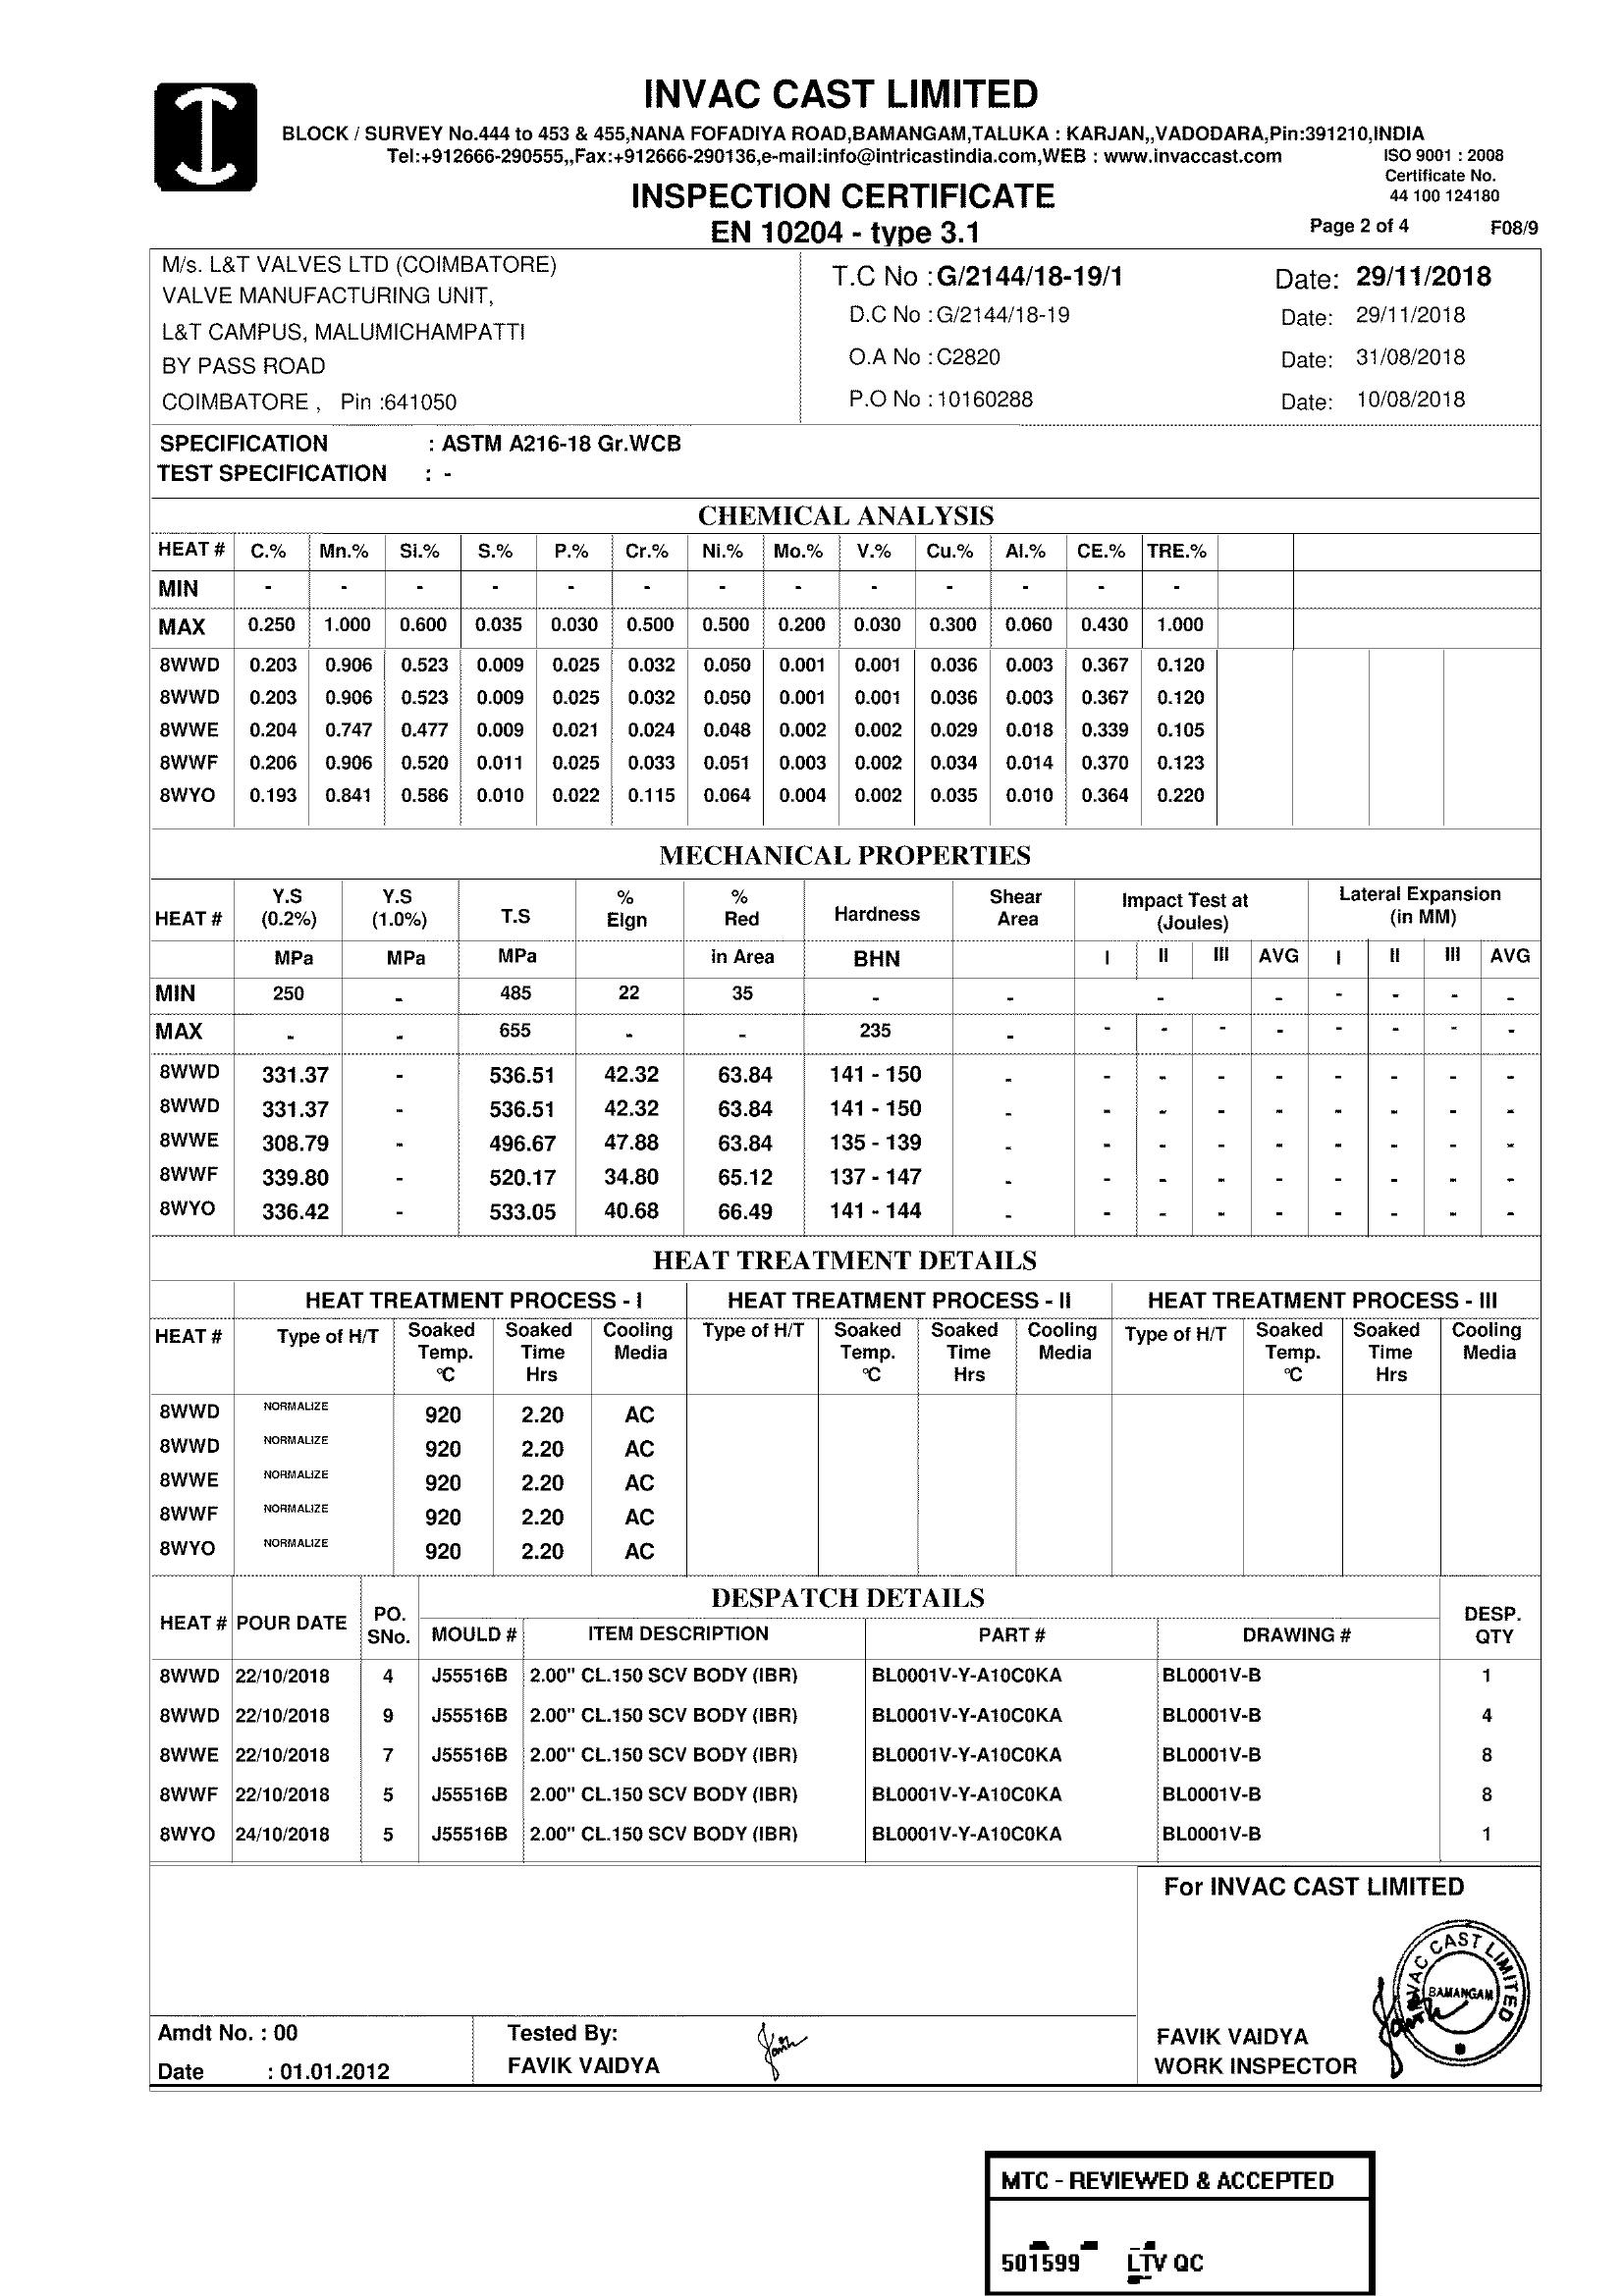cell: (645, 832, 1045, 874), (690, 500, 1003, 532), (1324, 885, 1505, 936), (1112, 890, 1263, 936), (358, 885, 439, 934), (819, 1062, 931, 1094), (694, 943, 792, 978), (977, 885, 1049, 932), (813, 1130, 934, 1157), (708, 1055, 783, 1092), (824, 1164, 927, 1190), (819, 1097, 929, 1122), (260, 890, 321, 934), (253, 1162, 330, 1195), (248, 1095, 334, 1125), (826, 1201, 938, 1223), (824, 902, 927, 927), (253, 1057, 328, 1090), (357, 946, 451, 972), (478, 1099, 573, 1125), (476, 1127, 559, 1157), (149, 902, 227, 934), (255, 1197, 332, 1229), (994, 651, 1059, 688), (833, 941, 908, 972), (153, 750, 223, 783), (1152, 776, 1210, 816), (480, 1064, 562, 1092), (595, 1201, 676, 1229), (843, 778, 910, 811), (843, 685, 913, 716), (1073, 743, 1136, 778), (715, 890, 768, 932), (156, 1058, 230, 1088), (323, 709, 378, 750), (601, 890, 655, 930), (706, 1097, 789, 1123), (710, 1199, 792, 1225), (464, 716, 529, 750), (464, 779, 532, 811), (588, 1064, 676, 1088), (472, 1164, 560, 1188), (155, 1092, 227, 1122), (771, 778, 829, 814), (156, 649, 227, 679), (153, 1127, 223, 1157), (464, 685, 543, 711), (481, 1199, 560, 1225), (996, 783, 1061, 814), (1073, 535, 1135, 569), (239, 716, 311, 744), (487, 943, 559, 971), (845, 1018, 917, 1046), (618, 537, 682, 569), (543, 783, 606, 814), (618, 783, 682, 814), (1075, 779, 1138, 811), (318, 681, 385, 711), (1071, 686, 1138, 716), (241, 781, 300, 814), (706, 1132, 792, 1155), (618, 751, 680, 783), (998, 714, 1063, 744), (696, 685, 754, 718), (160, 532, 228, 560), (615, 653, 683, 681), (917, 653, 985, 681), (595, 1095, 664, 1123), (595, 1166, 673, 1190), (464, 657, 536, 683), (314, 748, 378, 778), (994, 748, 1061, 776), (256, 948, 323, 976), (480, 1018, 555, 1043), (539, 751, 610, 778), (239, 611, 300, 641), (771, 651, 833, 681), (768, 686, 829, 716), (481, 895, 543, 925), (1154, 685, 1212, 716), (153, 979, 211, 1011), (1149, 751, 1214, 779), (155, 781, 220, 809), (922, 714, 977, 748), (155, 716, 228, 741), (153, 1162, 227, 1187), (388, 751, 457, 778), (253, 1134, 332, 1157), (694, 537, 754, 567), (618, 718, 678, 748), (920, 541, 984, 569), (696, 651, 759, 679), (395, 714, 451, 746), (239, 746, 302, 774), (462, 750, 525, 778), (766, 750, 829, 778), (492, 978, 548, 1009), (388, 653, 455, 679), (922, 785, 989, 811), (1075, 657, 1136, 685), (241, 683, 302, 711), (392, 781, 453, 809), (706, 1164, 782, 1187), (618, 613, 683, 639), (388, 616, 457, 641), (253, 1023, 327, 1046), (620, 686, 676, 716), (927, 688, 987, 716), (699, 748, 755, 778), (697, 781, 757, 809), (162, 1195, 221, 1223), (314, 613, 378, 639), (251, 983, 323, 1006), (1486, 943, 1535, 976), (314, 537, 372, 565), (771, 537, 829, 565), (998, 688, 1056, 716), (771, 718, 829, 746), (850, 651, 905, 681), (546, 716, 601, 746), (543, 653, 604, 679), (162, 685, 223, 711), (694, 616, 759, 641), (1071, 616, 1136, 641), (840, 988, 905, 1013), (369, 1058, 422, 1088), (239, 653, 302, 678), (467, 572, 522, 600), (1154, 611, 1208, 639), (847, 718, 905, 744), (242, 537, 293, 567), (1151, 716, 1212, 741), (1256, 1057, 1296, 1094), (920, 614, 985, 637), (390, 537, 443, 565), (155, 574, 211, 600), (241, 574, 293, 602), (594, 1134, 664, 1155), (1151, 537, 1210, 562), (546, 686, 606, 711), (321, 783, 381, 807), (155, 1018, 214, 1043), (1370, 941, 1416, 972), (160, 613, 214, 639), (1154, 653, 1212, 678), (1077, 716, 1135, 741), (713, 983, 771, 1008), (975, 988, 1042, 1009), (975, 1025, 1042, 1046), (539, 578, 601, 600), (543, 614, 604, 637), (771, 614, 833, 637), (597, 983, 659, 1006), (998, 541, 1050, 567), (998, 579, 1050, 606), (1256, 943, 1300, 974), (694, 578, 750, 602), (771, 576, 827, 600), (400, 685, 457, 709), (393, 576, 439, 606), (850, 614, 910, 637), (316, 653, 376, 676), (850, 751, 910, 774), (469, 537, 520, 563), (543, 537, 597, 562), (847, 537, 901, 562), (922, 576, 977, 600), (926, 751, 984, 774), (372, 988, 430, 1011), (1154, 576, 1207, 600), (1201, 1057, 1238, 1092), (1321, 1058, 1358, 1094), (371, 1095, 423, 1120), (987, 1208, 1043, 1231), (1077, 578, 1131, 600), (1001, 616, 1056, 639), (989, 1104, 1033, 1132), (1314, 946, 1360, 972), (696, 721, 752, 743), (710, 1022, 766, 1043), (1432, 1018, 1474, 1046), (1430, 1062, 1472, 1090), (1138, 988, 1189, 1011), (1254, 1099, 1298, 1125), (469, 616, 529, 635), (1143, 943, 1182, 972), (1433, 943, 1472, 972), (1087, 943, 1128, 971), (369, 1201, 427, 1220), (1207, 941, 1242, 972), (850, 578, 901, 599), (1317, 1099, 1358, 1125), (316, 581, 371, 600), (376, 1023, 422, 1046), (604, 1023, 650, 1046), (984, 1065, 1029, 1088), (991, 1169, 1028, 1197), (1375, 1167, 1412, 1195), (1379, 1064, 1417, 1090), (1319, 1134, 1363, 1157), (1488, 1134, 1532, 1157), (1147, 1099, 1180, 1129), (1091, 1199, 1131, 1223), (1488, 1099, 1530, 1122), (1200, 1166, 1238, 1190), (1258, 985, 1293, 1011), (1317, 981, 1354, 1006), (1490, 1065, 1526, 1090), (1152, 1199, 1184, 1227), (372, 1137, 418, 1157), (627, 578, 667, 599), (1086, 1171, 1126, 1192), (1433, 983, 1470, 1006), (1433, 1139, 1470, 1162), (1493, 1169, 1530, 1192), (1149, 1058, 1177, 1088), (1379, 1016, 1410, 1043), (371, 1171, 418, 1188), (1377, 1137, 1410, 1162), (1261, 1166, 1295, 1190), (1493, 1202, 1526, 1227), (1433, 1104, 1472, 1125), (1091, 1099, 1126, 1122), (1319, 1169, 1354, 1192), (1149, 1018, 1180, 1043), (1210, 1016, 1242, 1041), (1261, 1022, 1293, 1046), (1493, 1018, 1525, 1043), (1091, 1064, 1122, 1088), (1200, 1202, 1244, 1220), (1375, 983, 1409, 1006), (1491, 988, 1525, 1011), (1437, 1169, 1470, 1192), (984, 1141, 1031, 1157), (1379, 1202, 1409, 1227), (1319, 1022, 1356, 1041), (1201, 1134, 1235, 1155), (1089, 1018, 1119, 1041), (1259, 1202, 1295, 1222), (1149, 1167, 1180, 1188), (1324, 1204, 1352, 1227), (1433, 1206, 1468, 1223), (1256, 1137, 1298, 1152), (1205, 1104, 1238, 1122), (1377, 1106, 1412, 1122), (1147, 1139, 1179, 1157), (1093, 1139, 1121, 1157)
table: (151, 832, 1539, 1238), (155, 500, 1539, 823)
